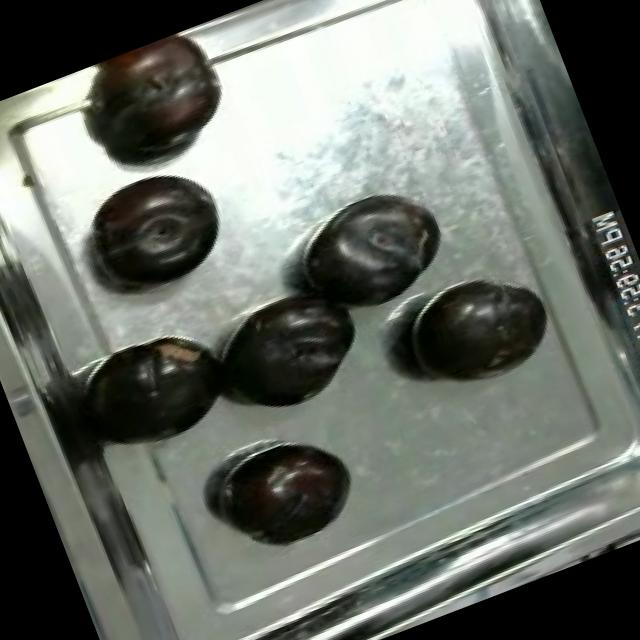Fruit: (59, 22, 244, 186), (200, 272, 384, 432), (281, 175, 464, 333), (385, 253, 567, 409), (71, 147, 244, 309), (73, 319, 237, 465), (210, 422, 372, 564)
